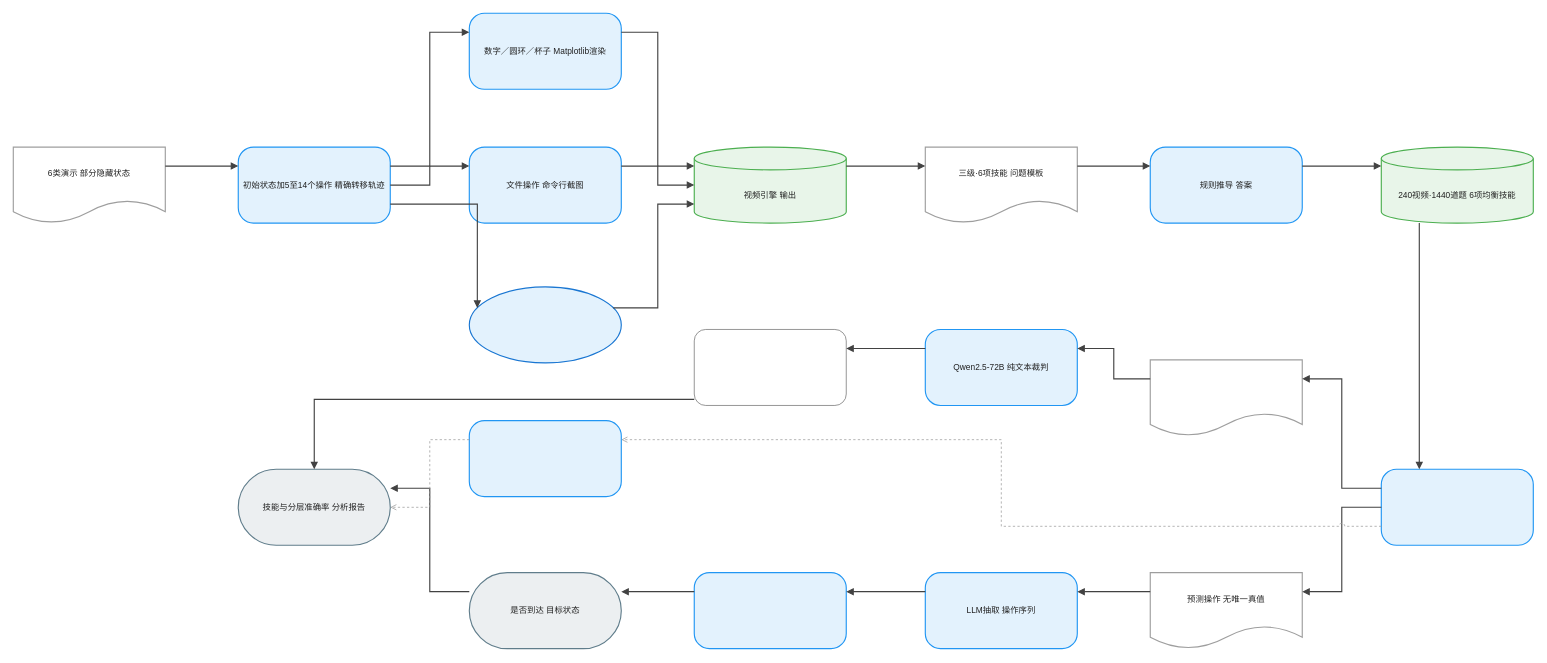
Some shapes in this 1547 by 663 pixel diagram are drawn without their labels. Each missing label, with the box of its shape:
5项有真值 技能: (1149, 359, 1302, 436)
一级／二级／三级 准确率: (694, 329, 846, 405)
卡牌／筹码 人工实拍: (468, 286, 622, 363)
完整视频 模型回答: (1380, 468, 1534, 546)
思考预算·视觉依赖 状态规模·操作数: (468, 420, 622, 497)
重放相同 状态转移函数: (693, 572, 846, 649)
